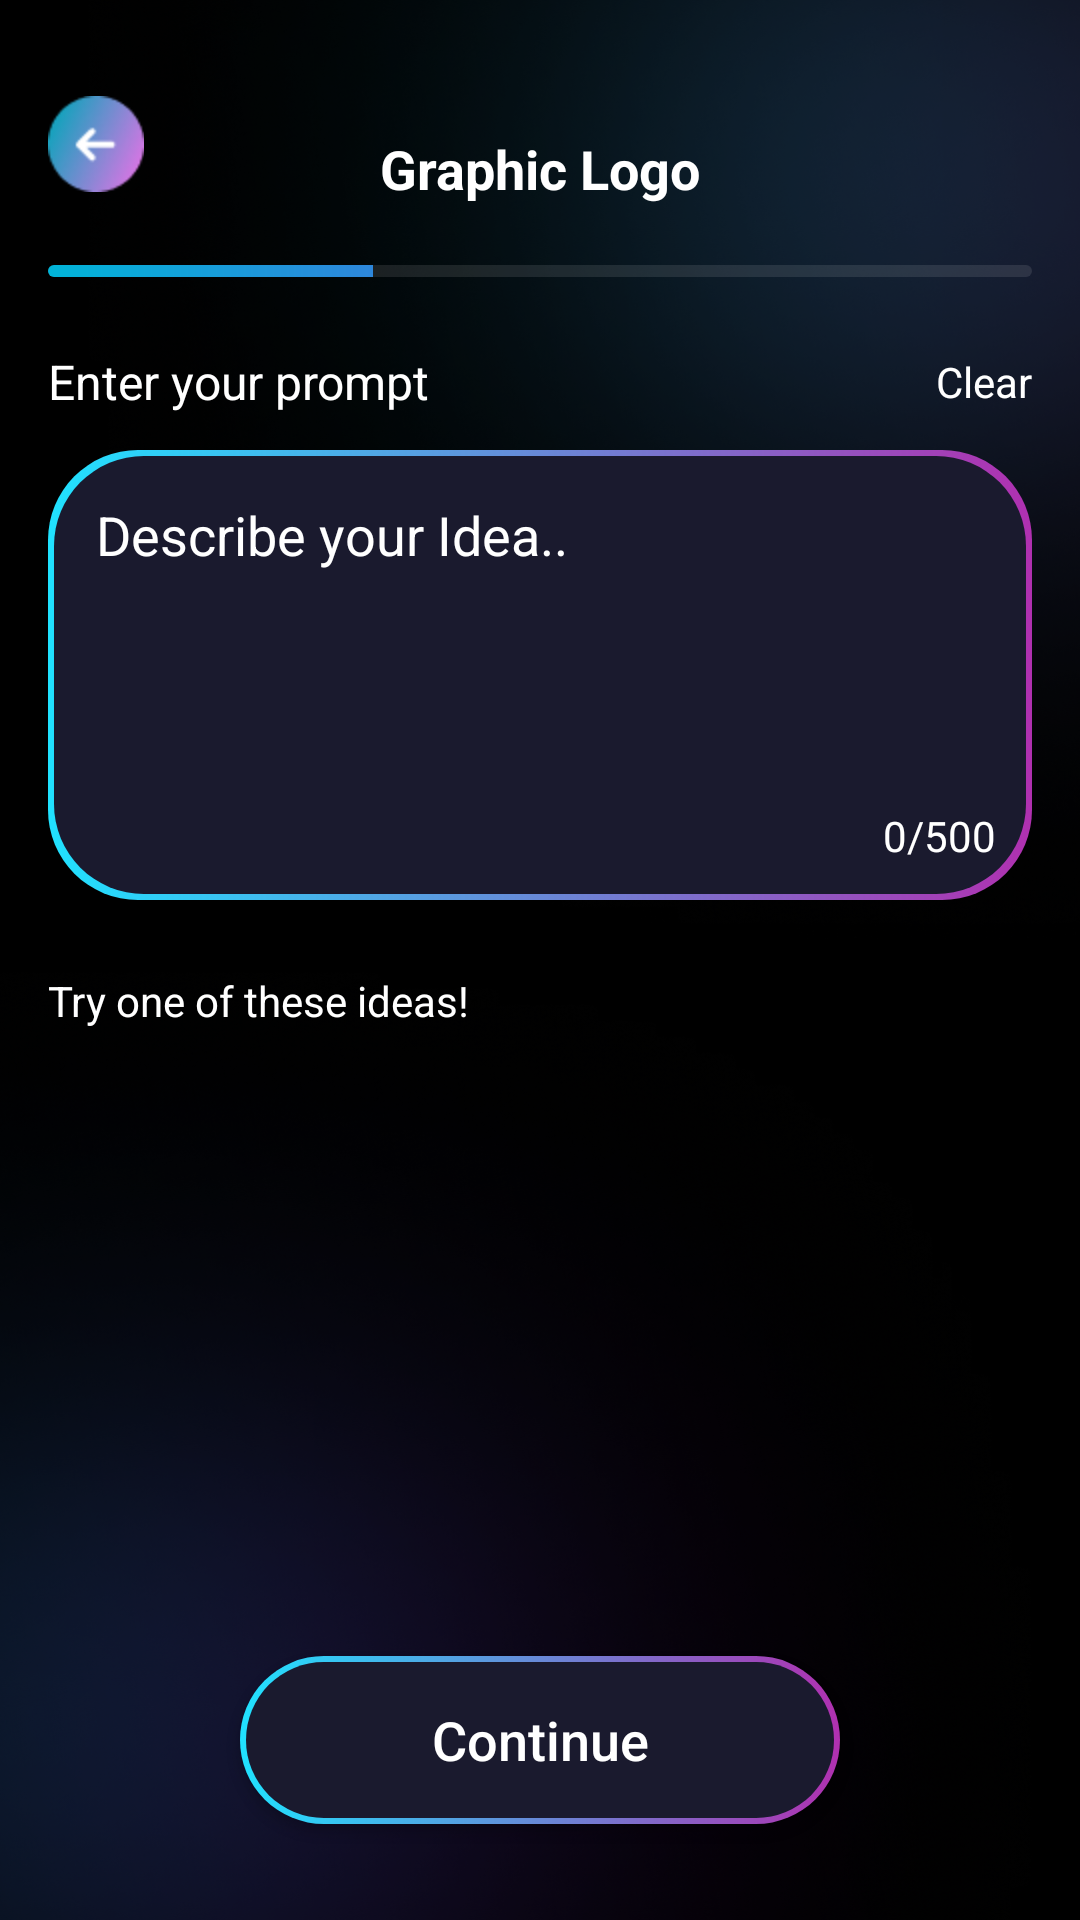

Point at icon controls on the screen. Image size 1080px×1920px, points as (x,y).
back arrow: (96,144)
